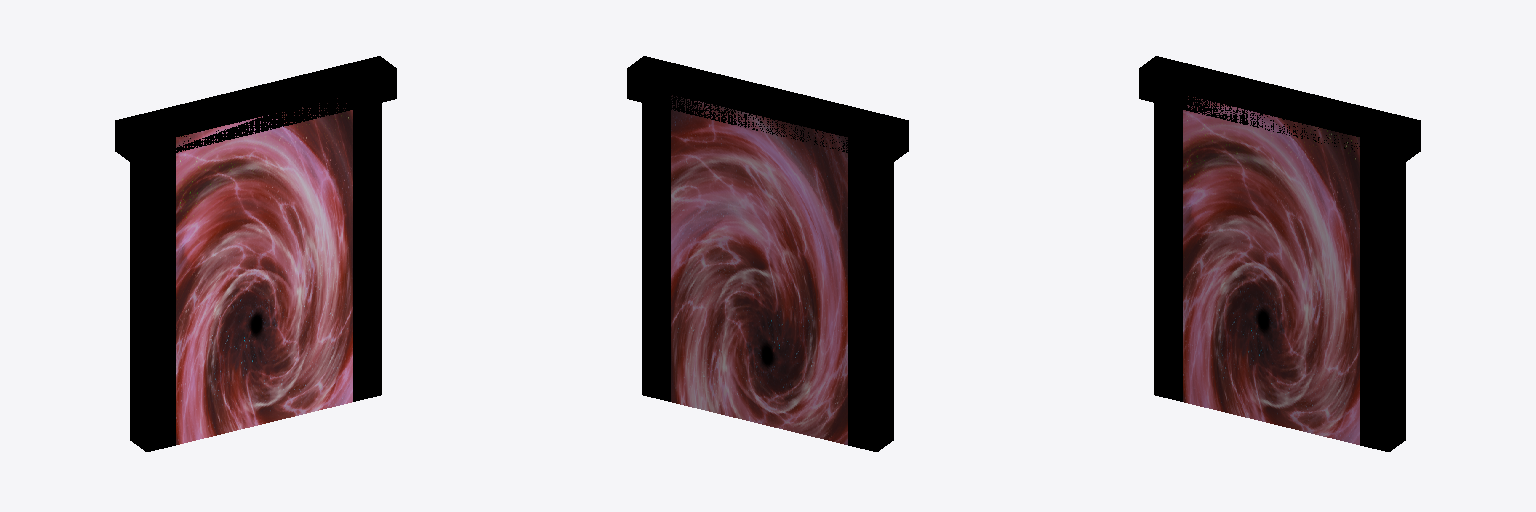
3 renders of one model, left to right at view 1: azimuth 30°, elevation 25°; view 2: azimuth 150°, elevation 25°; view 3: azimuth 330°, elevation 25°, orthographic.
Parts seen in each view (by area): view 1: pCube3, pCube5, pCube4, pCube6; view 2: pCube3, pCube5, pCube4, pCube6; view 3: pCube3, pCube6, pCube4, pCube5.
Part boxes in pixels (left/top/right/bottom): pCube3: left=176, top=98, right=352, bottom=444; pCube5: left=130, top=138, right=175, bottom=451; pCube4: left=115, top=56, right=396, bottom=163; pCube6: left=353, top=87, right=381, bottom=401; pCube3: left=671, top=95, right=847, bottom=444; pCube5: left=848, top=138, right=893, bottom=451; pCube4: left=627, top=56, right=908, bottom=163; pCube6: left=642, top=87, right=670, bottom=401; pCube3: left=1183, top=96, right=1359, bottom=444; pCube6: left=1360, top=138, right=1405, bottom=451; pCube4: left=1139, top=56, right=1420, bottom=163; pCube5: left=1154, top=87, right=1182, bottom=401.
Bounding box in the file's own units: 9 × 10.5 × 1.
2 materials, 1 textured.